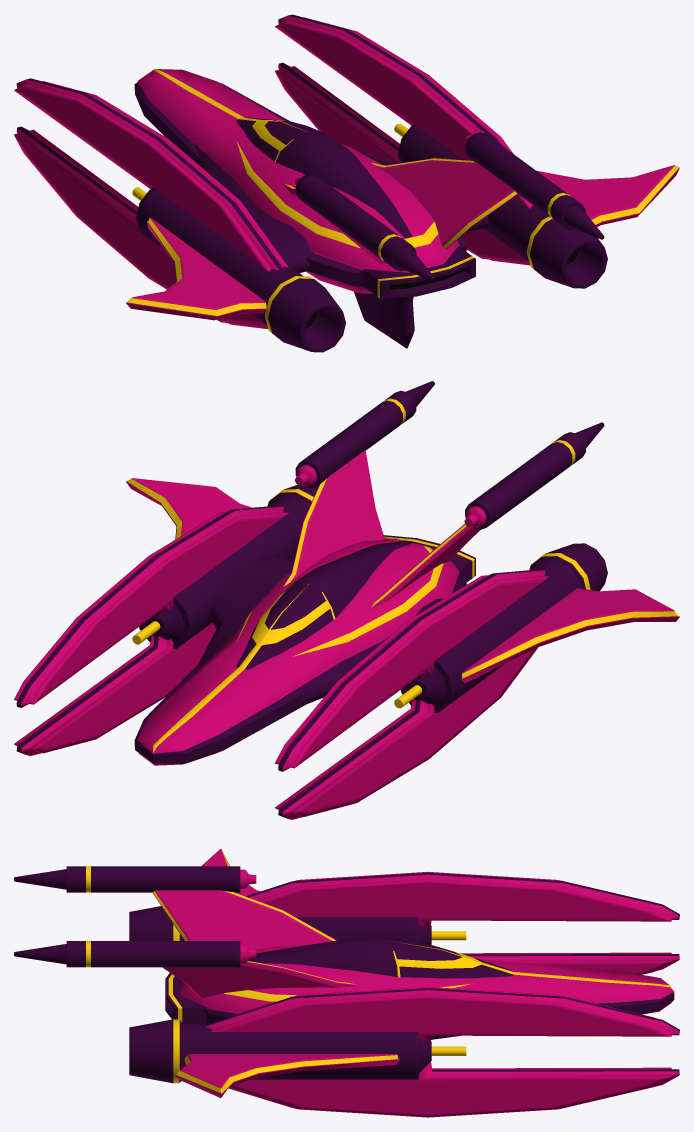
Rendered from AlienStarfighter16.obj.
3 renders of one model, top to bottom at view 1: azimuth 30°, elevation 25°; view 2: azimuth 150°, elevation 25°; view 3: azimuth 270°, elevation 25°, orthographic. The views are drawn at different scales.
Visible parts, largest first — view 1: Cylinder.003_Cylinder.005, Sphere_Sphere.002, Cylinder.001_Cylinder.006, Cube.002_Cube.003, Cylinder.005_Cylinder.011, Cube.003_Cube.004, Sphere.001_Sphere.003, Cylinder.002_Cylinder.001, Cylinder.006_Cylinder.007; view 2: Cylinder.003_Cylinder.005, Sphere_Sphere.002, Cylinder.001_Cylinder.006, Cube.002_Cube.003, Cylinder.005_Cylinder.011, Cube.003_Cube.004, Sphere.001_Sphere.003, Cylinder.002_Cylinder.001; view 3: Cylinder.003_Cylinder.005, Cylinder.001_Cylinder.006, Sphere_Sphere.002, Cylinder.005_Cylinder.011, Cube.003_Cube.004, Sphere.001_Sphere.003, Cube.002_Cube.003.
Boxes of the visible parts, left/top/right/bottom form: Cylinder.003_Cylinder.005: left=14, top=14, right=533, bottom=328; Sphere_Sphere.002: left=134, top=69, right=475, bottom=299; Cylinder.001_Cylinder.006: left=132, top=123, right=607, bottom=352; Cube.002_Cube.003: left=126, top=165, right=679, bottom=320; Cylinder.005_Cylinder.011: left=295, top=132, right=604, bottom=280; Cube.003_Cube.004: left=282, top=158, right=518, bottom=264; Sphere.001_Sphere.003: left=236, top=117, right=412, bottom=238; Cylinder.002_Cylinder.001: left=191, top=143, right=489, bottom=272; Cylinder.006_Cylinder.007: left=354, top=291, right=414, bottom=348; Cylinder.003_Cylinder.005: left=14, top=505, right=548, bottom=819; Sphere_Sphere.002: left=134, top=535, right=475, bottom=765; Cylinder.001_Cylinder.006: left=132, top=485, right=607, bottom=712; Cube.002_Cube.003: left=126, top=478, right=679, bottom=683; Cylinder.005_Cylinder.011: left=295, top=381, right=604, bottom=529; Cube.003_Cube.004: left=282, top=450, right=480, bottom=608; Sphere.001_Sphere.003: left=236, top=540, right=412, bottom=669; Cylinder.002_Cylinder.001: left=196, top=555, right=443, bottom=702; Cylinder.003_Cylinder.005: left=205, top=872, right=679, bottom=1117; Cylinder.001_Cylinder.006: left=129, top=906, right=466, bottom=1083; Sphere_Sphere.002: left=165, top=945, right=674, bottom=1035; Cylinder.005_Cylinder.011: left=14, top=866, right=256, bottom=967; Cube.003_Cube.004: left=152, top=890, right=359, bottom=998; Sphere.001_Sphere.003: left=248, top=937, right=514, bottom=978; Cube.002_Cube.003: left=175, top=849, right=400, bottom=1097.
Bounding box in the file's own units: 6.8 × 2.2 × 7.83.
